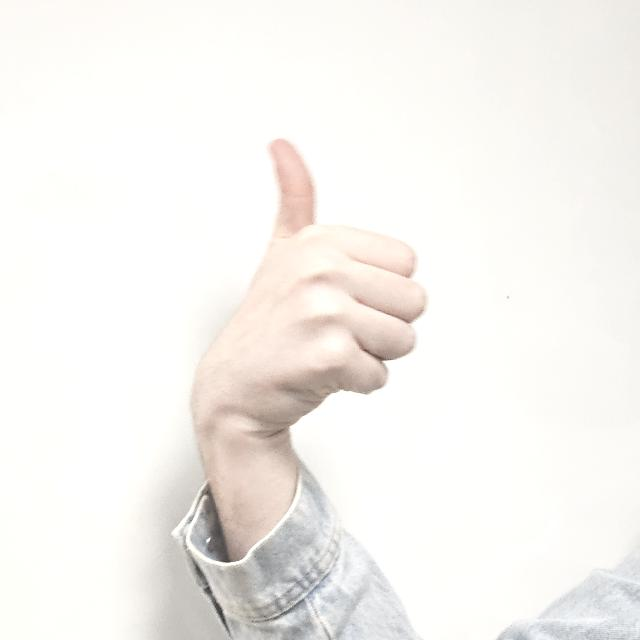Start: (266, 132, 424, 406)
